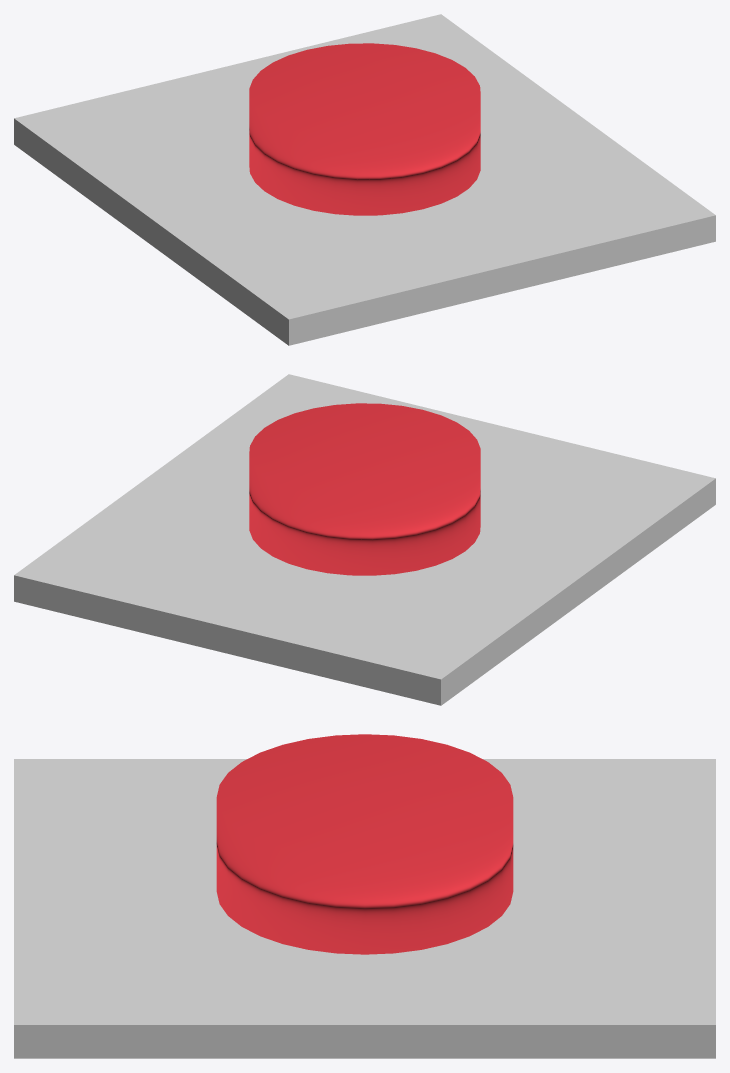
File: button.fbx
3 views of the same model, one above another, from view 1: azimuth 30°, elevation 25°; view 2: azimuth 150°, elevation 25°; view 3: azimuth 270°, elevation 25° (orthographic). The views are drawn at different scales.
Visible parts, largest first — view 1: button; view 2: button; view 3: button.
Part boxes in pixels (x1,y1,x2,y2): button: (14,14,715,345); button: (14,374,715,705); button: (14,734,715,1058).
Bounding box in the file's own units: 425 × 95.87 × 474.
